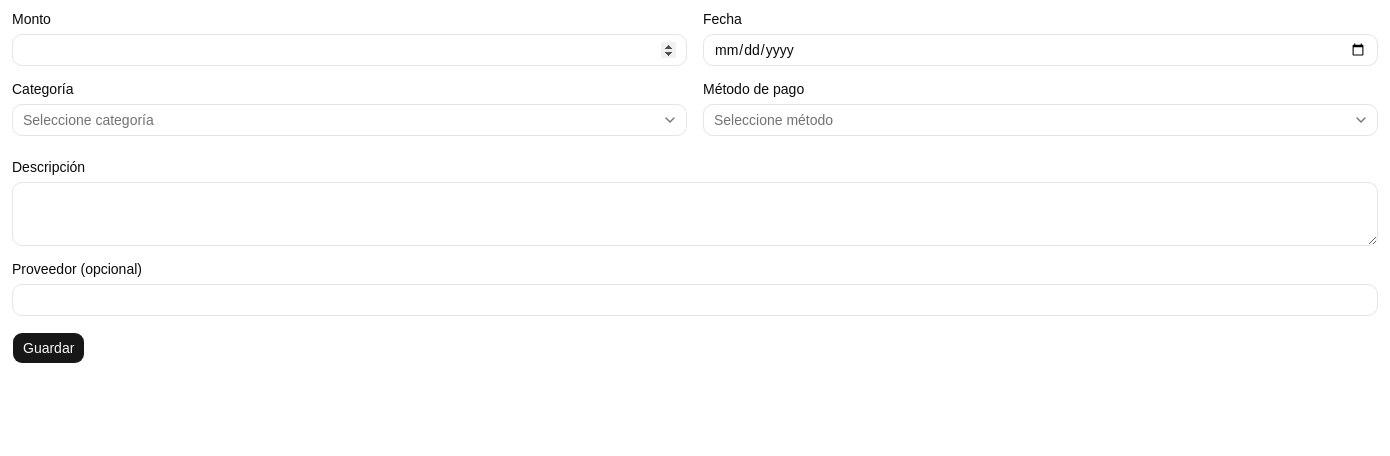
Test case: ExpenseForm › shows validation errors on empty submit
The width and height of the screenshot is (1390, 456).
Click the button "Guardar" at {"x": 49, "y": 348}, box [12,332,85,364]
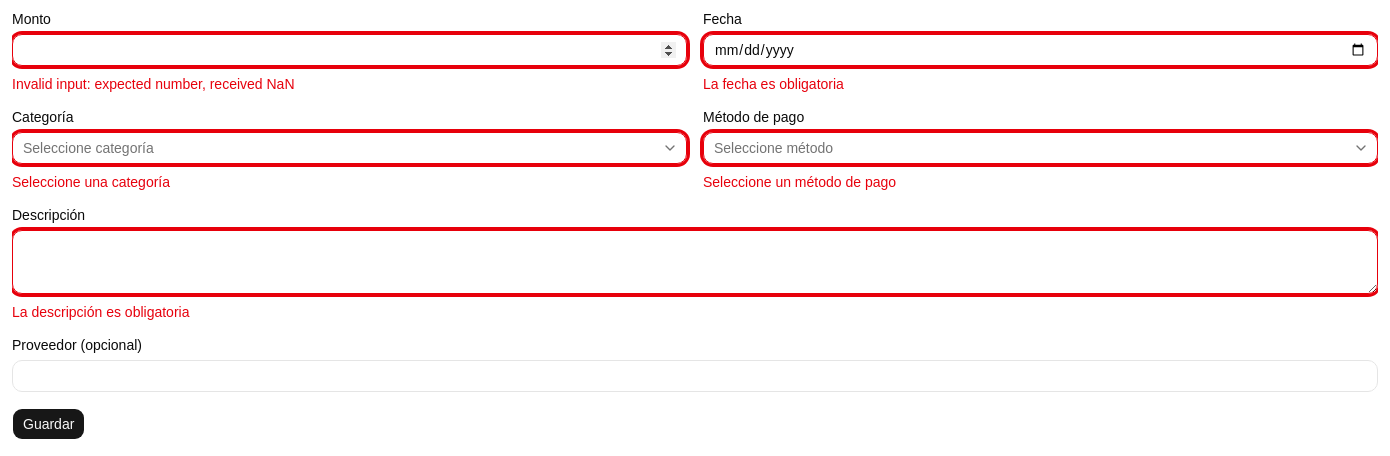
Check: the text "Invalid input: expected number, received NaN" is shown, box [12,76,294,92]
Check: the text "La fecha es obligatoria" is shown, box [703,76,844,92]
Check: the text "La descripción es obligatoria" is shown, box [12,304,190,320]
